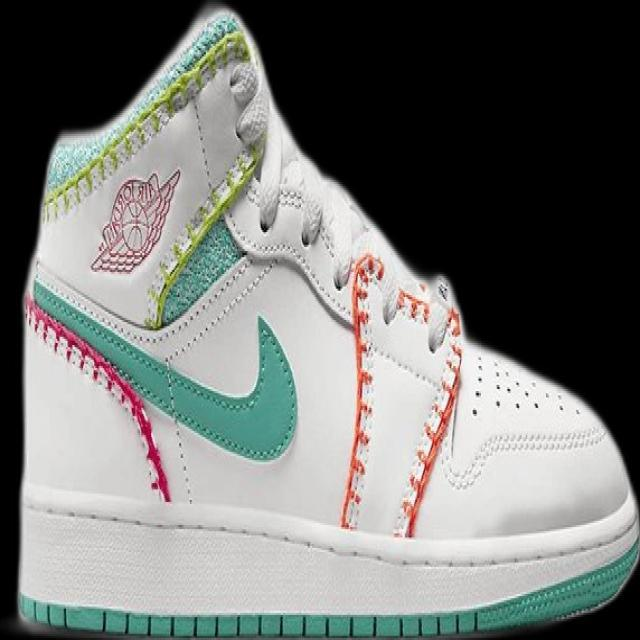J1_InsoleChar: (14, 1, 639, 639)
J1_ShoeLogo: (89, 167, 181, 274)
J1_StitchPattern: (22, 248, 606, 538), (26, 20, 273, 503), (224, 165, 466, 538), (335, 251, 600, 540), (39, 12, 250, 225), (336, 251, 465, 537), (142, 57, 270, 331), (22, 291, 173, 503), (337, 251, 382, 531)
